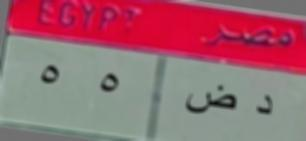5: (32, 59, 68, 92), (93, 68, 128, 99)
daad: (183, 82, 241, 121)
daal: (250, 89, 276, 122)
